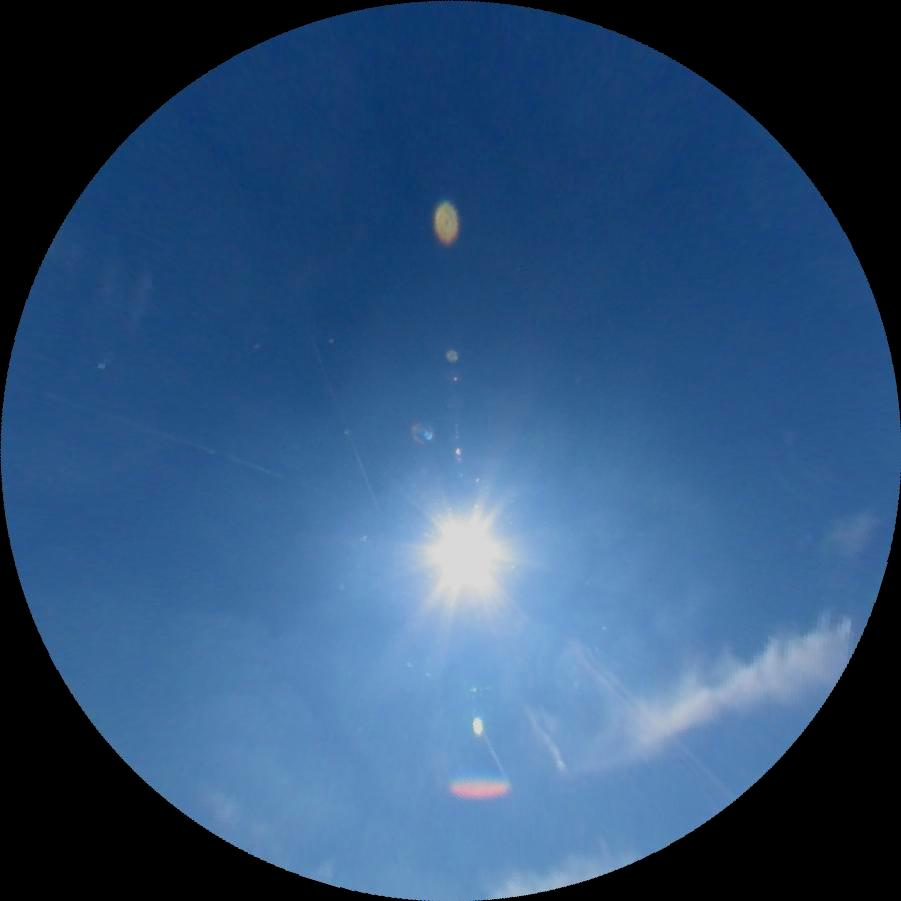contrail young: (302, 335, 513, 795)
parasite: (4, 377, 283, 478), (591, 657, 737, 801), (578, 655, 647, 731)
sun: (419, 504, 510, 602)
